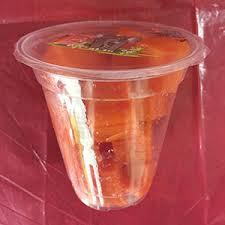Plastik: (16, 17, 203, 211)
